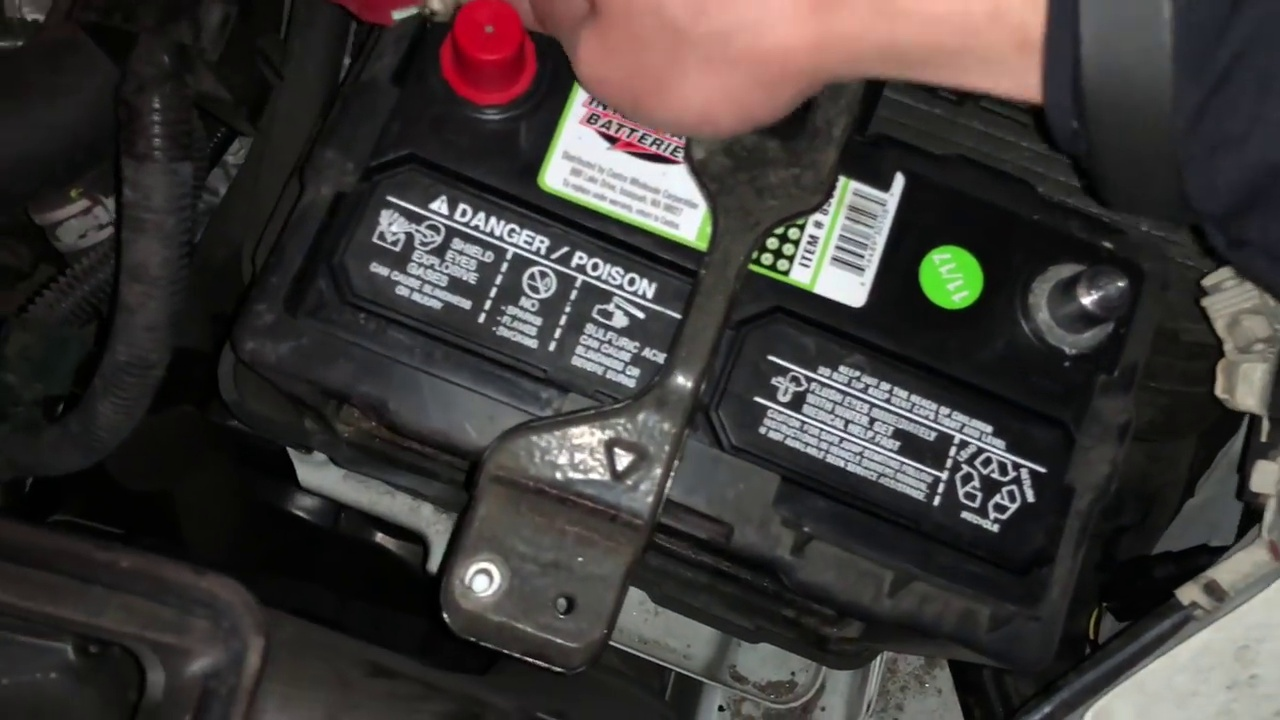battery: (297, 1, 1140, 583)
neg_disconnected: (1025, 217, 1150, 378)
pos_disconnected: (409, 9, 563, 123)
